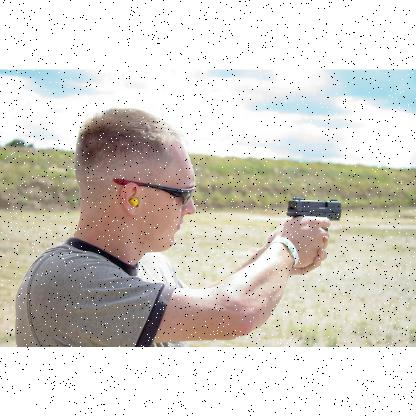gun: (286, 195, 342, 266)
